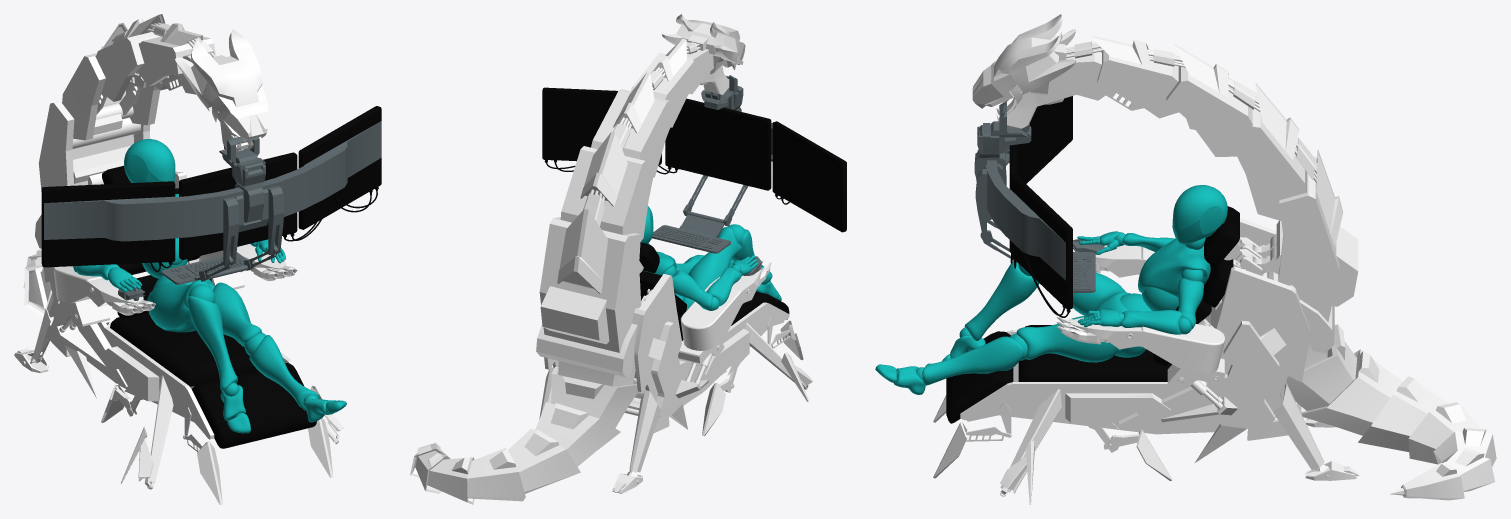
The model's file is dragon7.glb.
3 renders of one model, left to right at view 1: azimuth 30°, elevation 25°; view 2: azimuth 150°, elevation 25°; view 3: azimuth 270°, elevation 25°, orthographic. The views are drawn at different scales.
Parts seen in each view (by area): view 1: a1UVs3, a2UVs1, JUST_MAT_xBot_, a1UVs1, a1UVs4, mainHead, monitor_right, monitorMid, monitor_left, mech, tail_2_1, a2UVs1_3 (+1 smaller); view 2: a1UVs1, a1UVs3, tail_2_1, monitorMid, monitor_right, JUST_MAT_xBot_, monitor_left, mainHead, a2UVs1, a1UVs4; view 3: a1UVs3, a1UVs1, JUST_MAT_xBot_, tail_2_1, a1UVs4, mainHead, a2UVs1, monitor_right, monitor_left, a2UVs1_3.
Boxes of the visible parts, x1,y1,x2,y2 form: a1UVs3: [14, 171, 343, 504]; a2UVs1: [44, 121, 381, 300]; JUST_MAT_xBot_: [73, 139, 346, 433]; a1UVs1: [35, 14, 216, 248]; a1UVs4: [102, 165, 378, 448]; mainHead: [175, 29, 268, 151]; monitor_right: [41, 181, 175, 267]; monitorMid: [179, 152, 297, 259]; monitor_left: [298, 106, 381, 229]; mech: [72, 71, 181, 148]; tail_2_1: [23, 22, 243, 317]; a2UVs1_3: [232, 162, 265, 222]; a1UVs1: [536, 38, 713, 377]; a1UVs3: [539, 260, 812, 493]; tail_2_1: [410, 42, 700, 504]; monitorMid: [665, 98, 771, 190]; monitor_right: [772, 121, 846, 232]; JUST_MAT_xBot_: [641, 206, 781, 310]; monitor_left: [542, 87, 661, 164]; mainHead: [662, 14, 745, 94]; a2UVs1: [652, 123, 772, 275]; a1UVs4: [544, 160, 789, 340]; a1UVs3: [933, 218, 1358, 504]; a1UVs1: [1031, 35, 1358, 353]; JUST_MAT_xBot_: [875, 185, 1227, 394]; tail_2_1: [1011, 41, 1496, 500]; a1UVs4: [946, 206, 1239, 423]; mainHead: [972, 14, 1075, 129]; a2UVs1: [975, 145, 1104, 292]; monitor_right: [1016, 96, 1072, 183]; monitor_left: [1011, 175, 1072, 309]; a2UVs1_3: [974, 126, 1006, 185].
Bounding box in the file's own units: 17.77 × 20.7 × 27.25.
